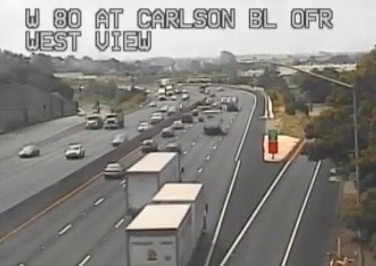car: (104, 164, 123, 178), (141, 140, 156, 152)
truck: (126, 182, 205, 266), (126, 151, 180, 216)
